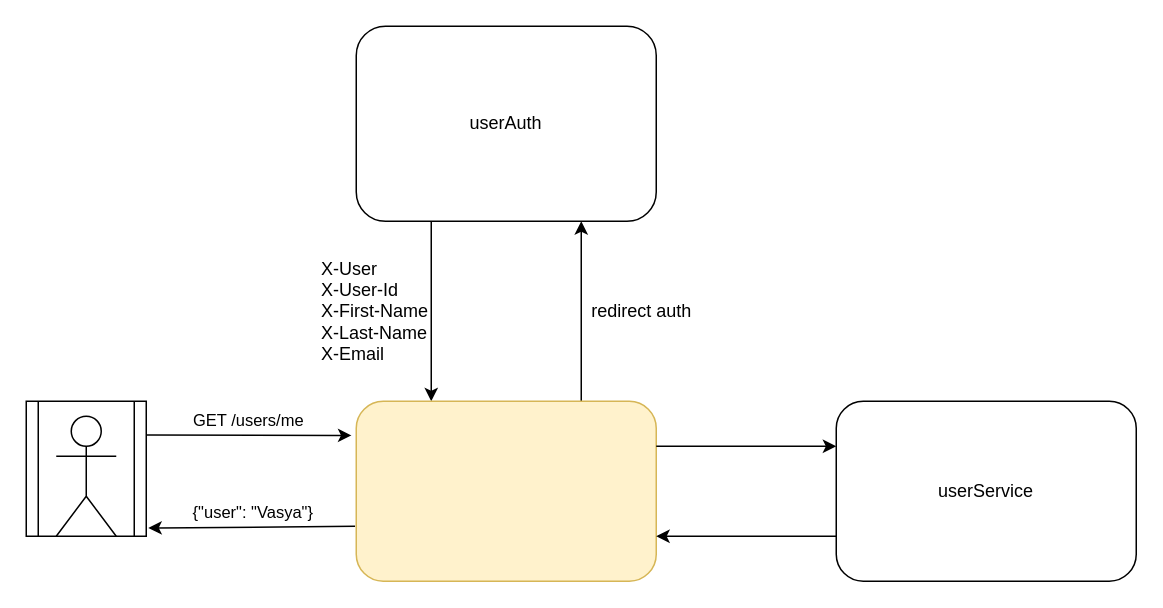
Image size: 1163x608. Some labels were removed from this diagram. Each missing label, with the box of its shape:
Actor: (55, 415, 116, 536)
nginx-ingress: (355, 400, 656, 581)
